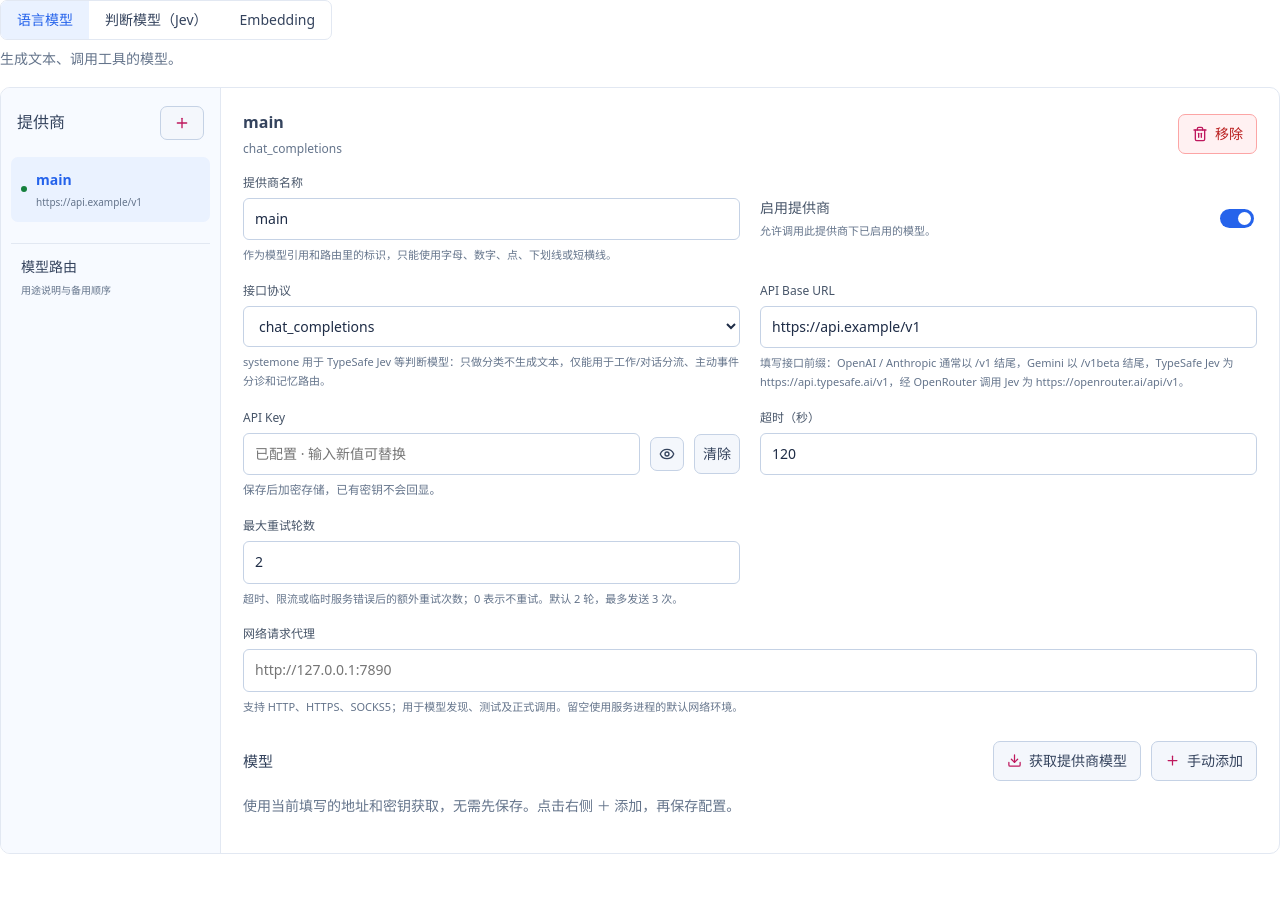
Test: model categories › keeps embedding models in their own tab and route
Click the button "Embedding" at (277, 20), box [224,1,331,39]
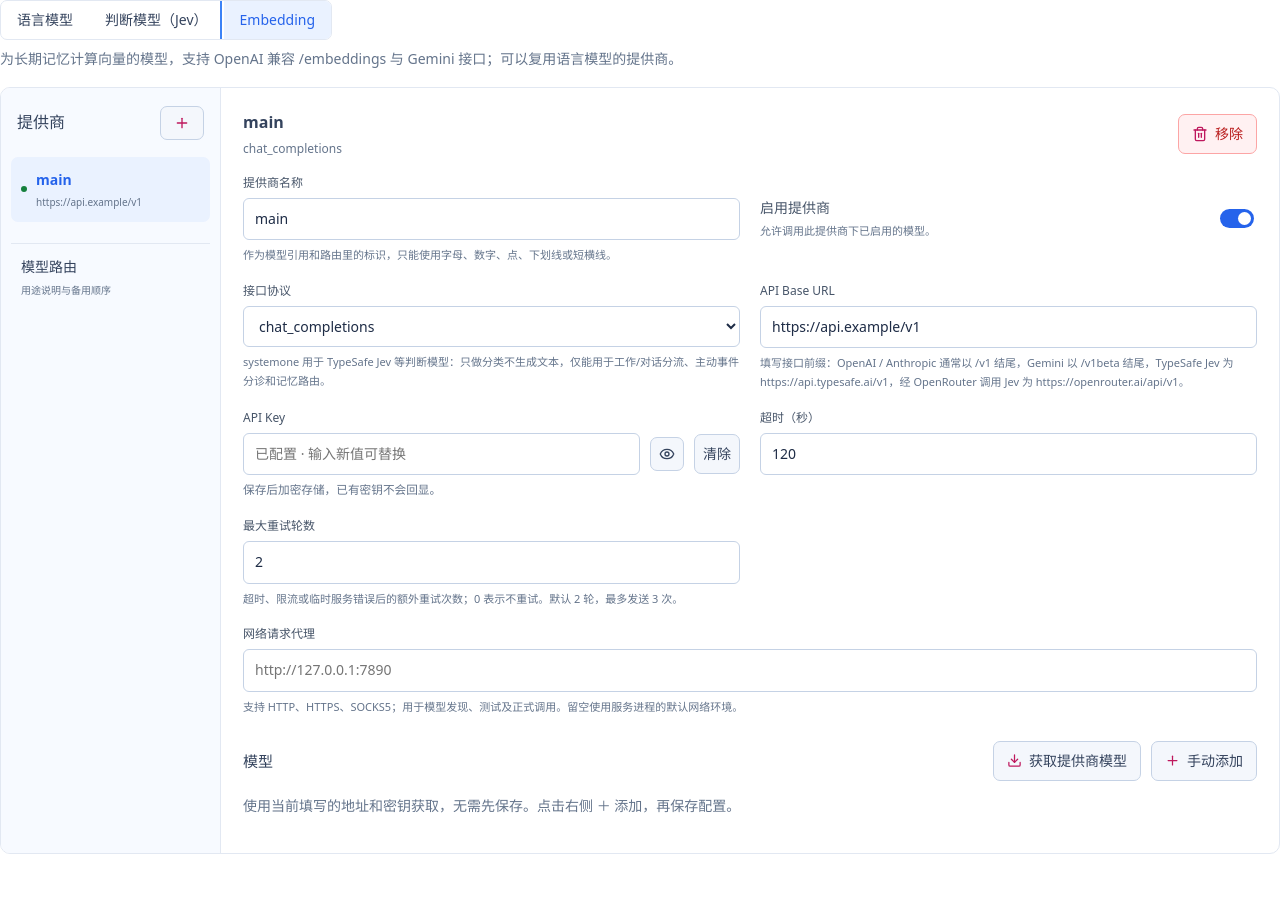
Click the button "手动添加" at (1204, 761), box [1151,741,1257,781]
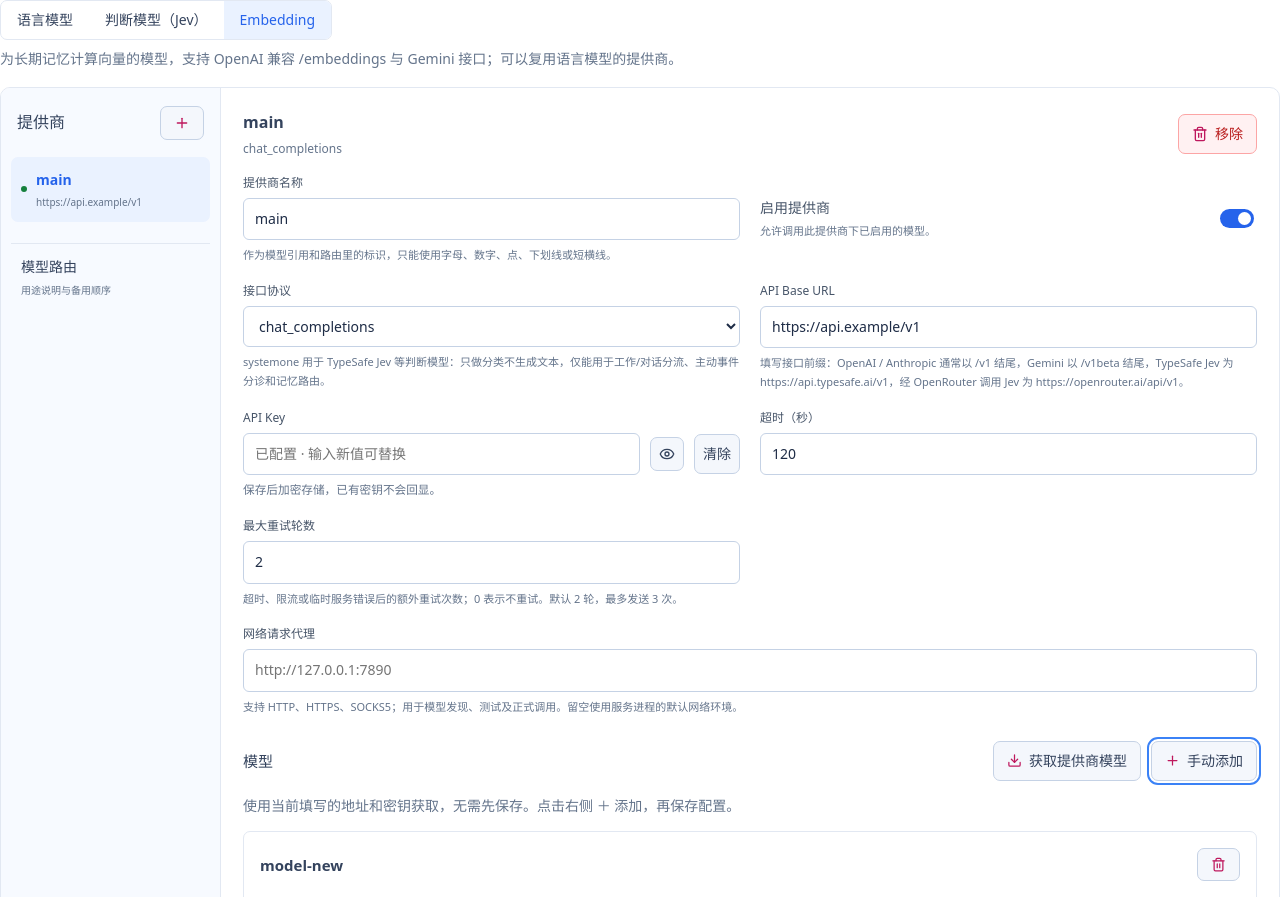
Click the button "语言模型" at (45, 20), box [1,1,89,39]
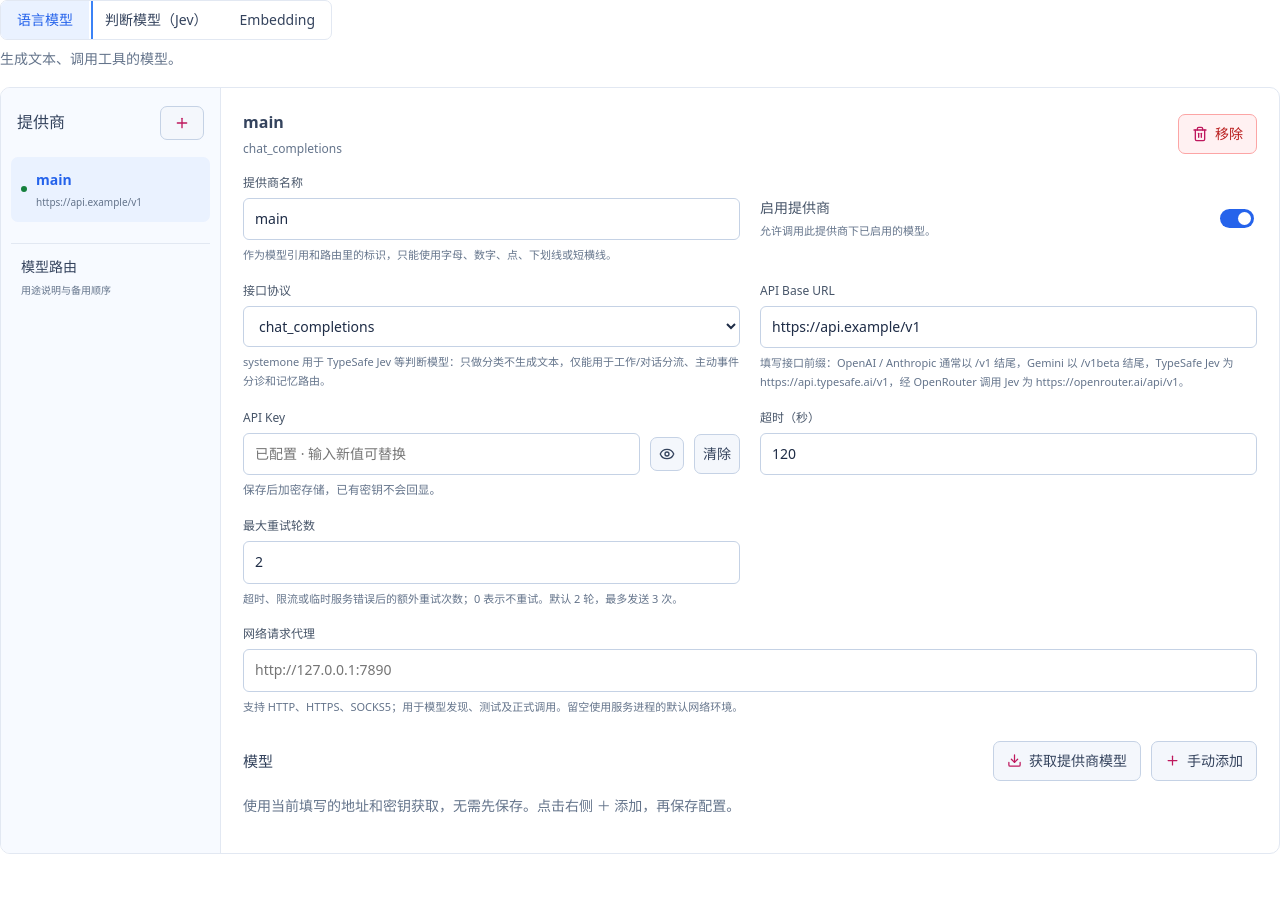
Click the button "手动添加" at (1204, 761), box [1151,741,1257,781]
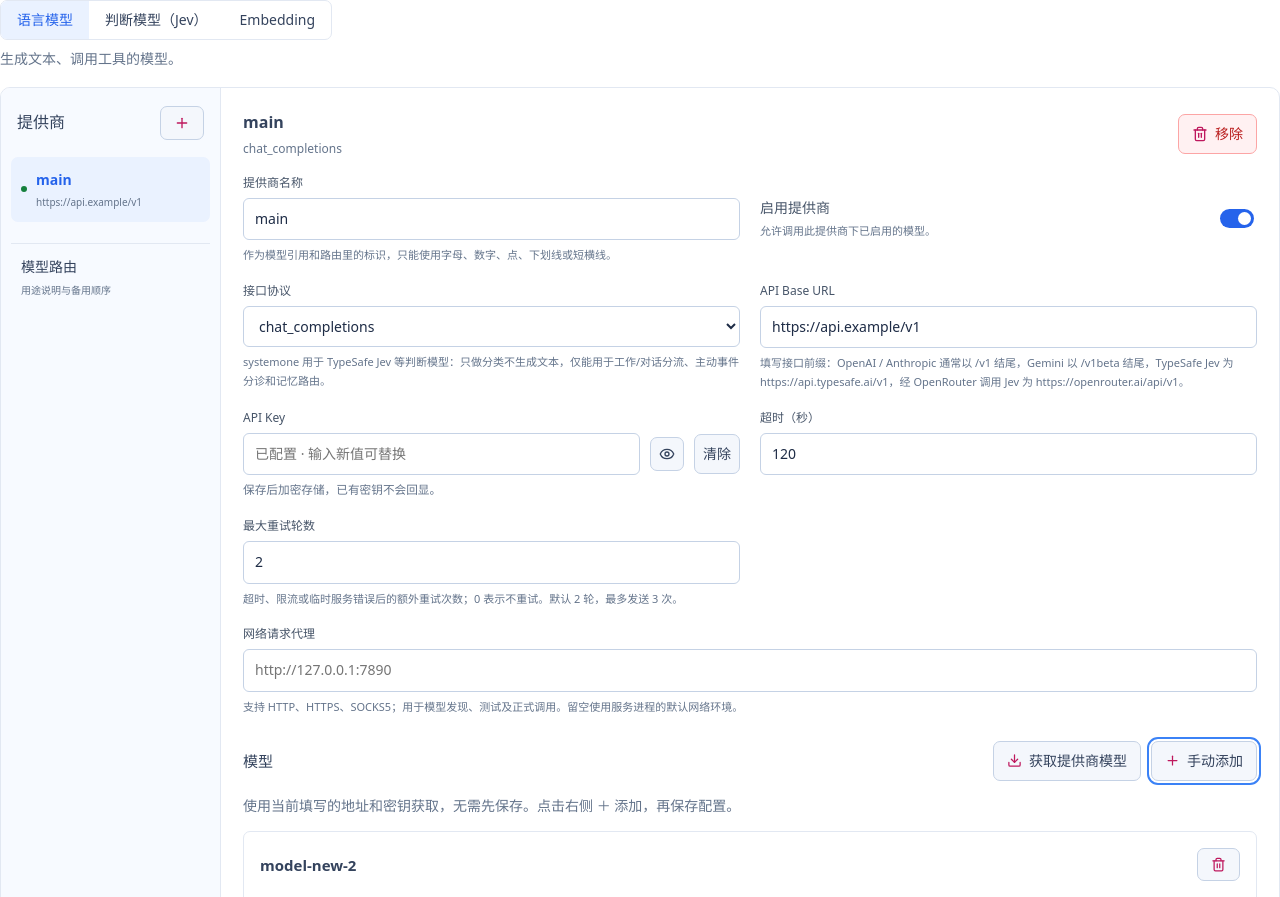
Click the button "Embedding" at (277, 20), box [224,1,331,39]
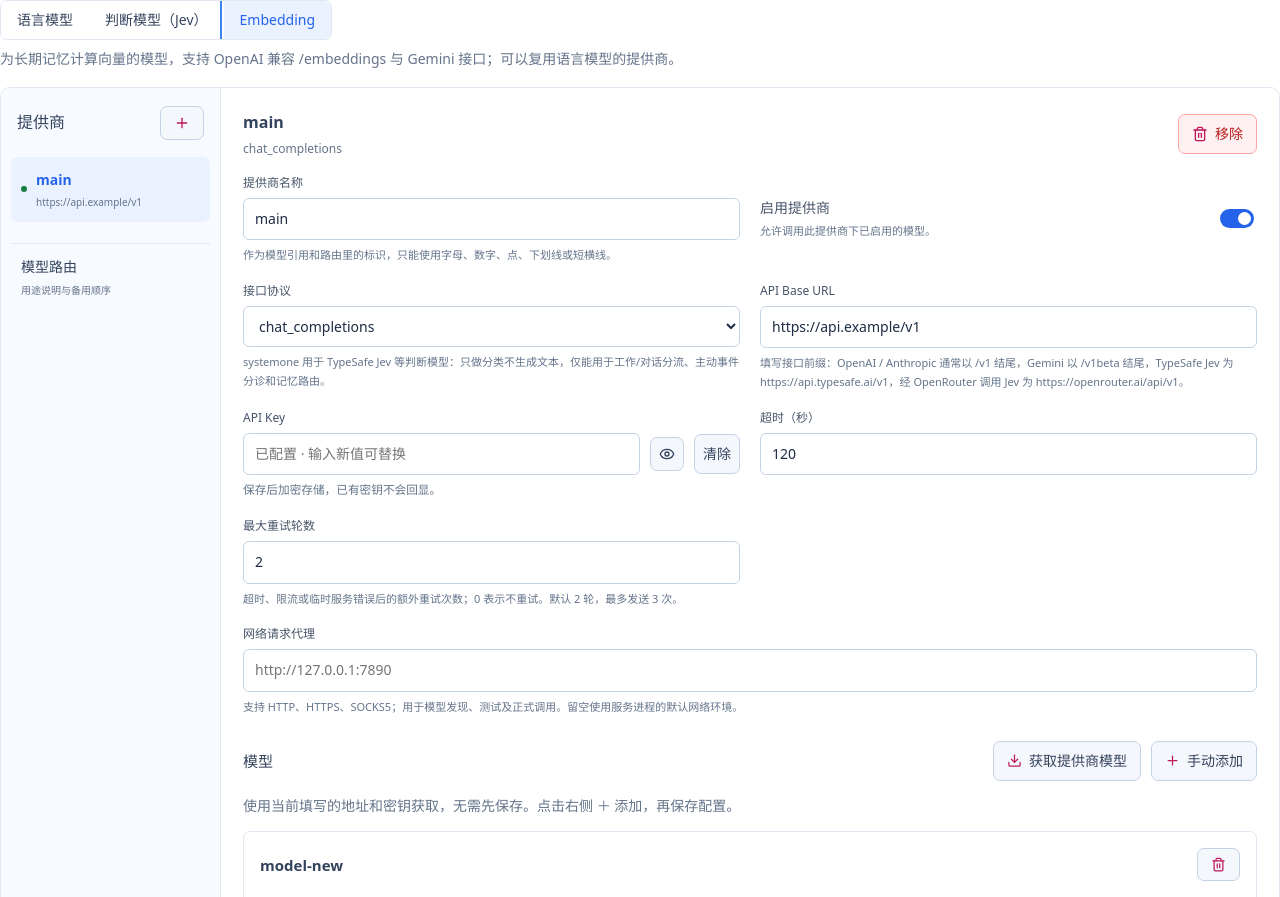
Click the text "模型路由" at (49, 267), box [21,257,77,276]
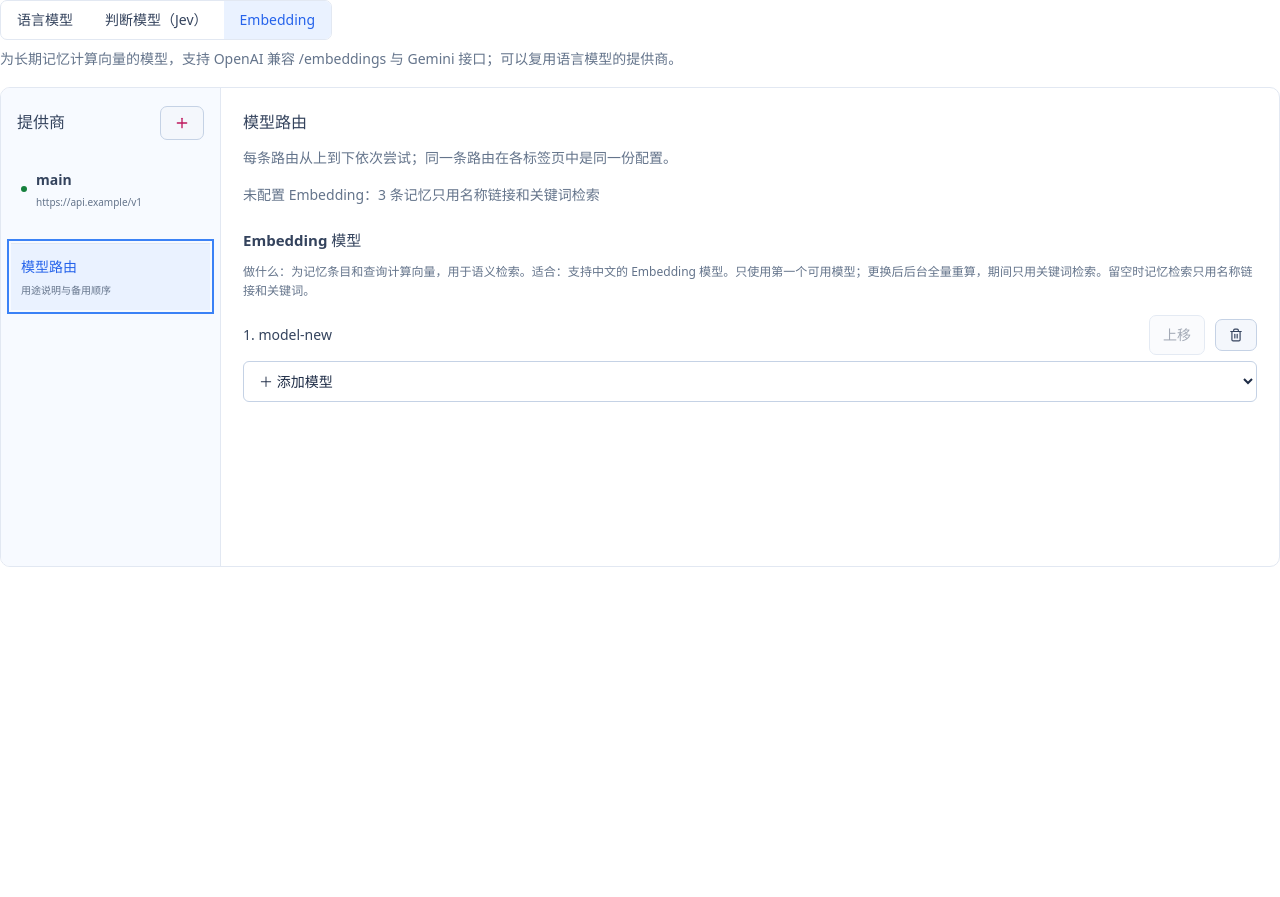
Now the text "未配置 Embedding：3 条记忆只用名称链接和关键词检索" is shown, box [243,185,600,204]
Now the text "支持中文的 Embedding 模型" is shown, box [243,263,1253,300]
